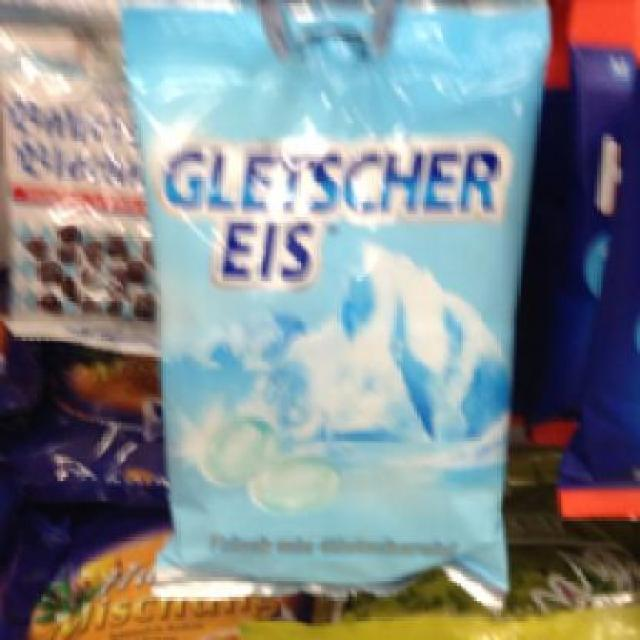Candy: (123, 2, 543, 598)
